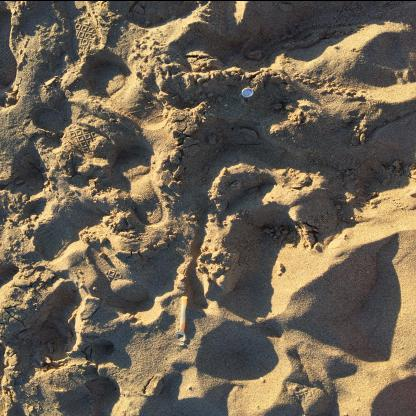diger: (176, 295, 186, 344)
plastik: (242, 86, 254, 96)
